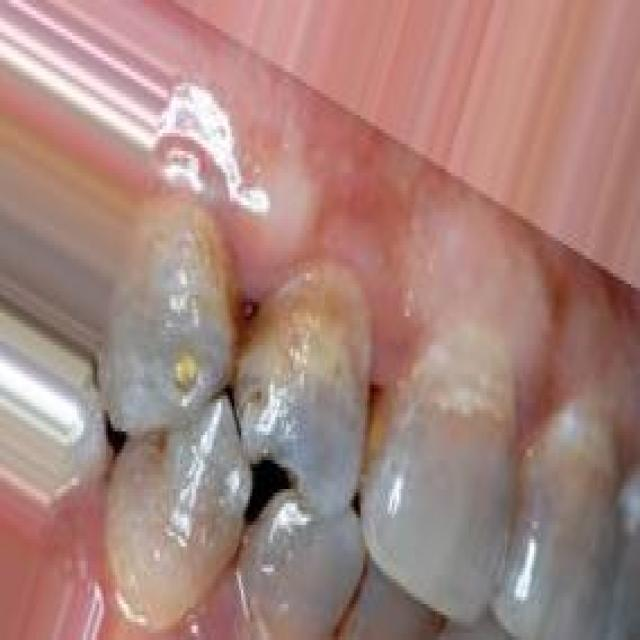caries: (162, 342, 209, 404)
